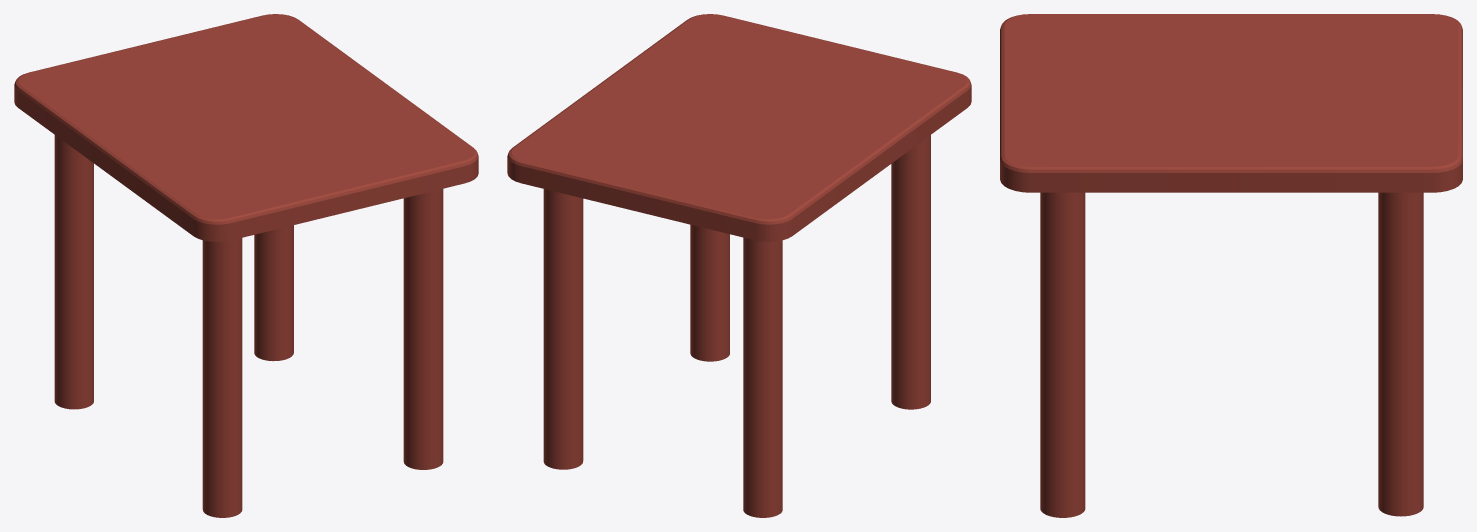
Rendered from TableForMixing.fbx.
3 views of the same model, side by side, from view 1: azimuth 30°, elevation 25°; view 2: azimuth 150°, elevation 25°; view 3: azimuth 270°, elevation 25° (orthographic). The views are drawn at different scales.
Visible parts, largest first — view 1: TableForMixing; view 2: TableForMixing; view 3: TableForMixing.
Part boxes in pixels (bbox=[...]): TableForMixing: bbox=[14, 14, 478, 517]; TableForMixing: bbox=[507, 14, 971, 517]; TableForMixing: bbox=[1000, 14, 1462, 517].
Bounding box in the file's own units: 103 × 111 × 129.
